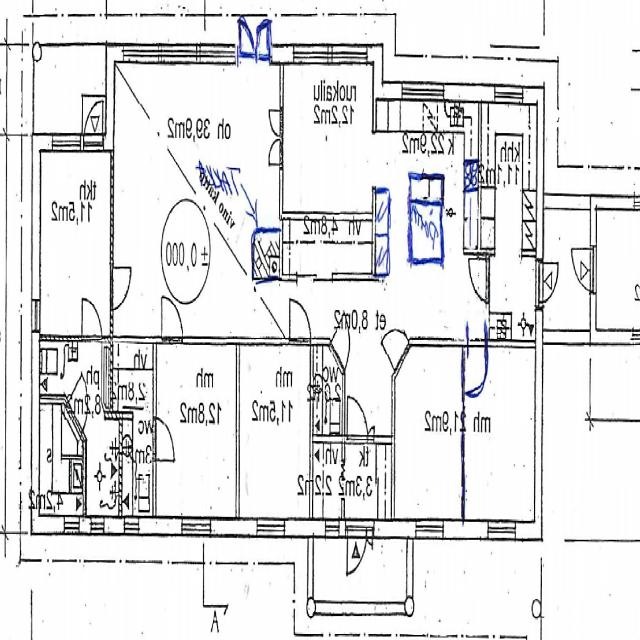door: (66, 370, 98, 438), (380, 313, 410, 379), (329, 316, 357, 374), (570, 247, 597, 291), (84, 89, 103, 150), (110, 266, 136, 310), (347, 518, 366, 578), (162, 290, 183, 344), (537, 264, 565, 304), (348, 393, 368, 445), (466, 261, 490, 302), (466, 340, 486, 389), (152, 421, 176, 461), (82, 294, 101, 344), (290, 294, 309, 344), (239, 9, 255, 61), (255, 9, 270, 61), (267, 138, 284, 166), (267, 111, 284, 138), (366, 518, 374, 553), (368, 421, 375, 445)
